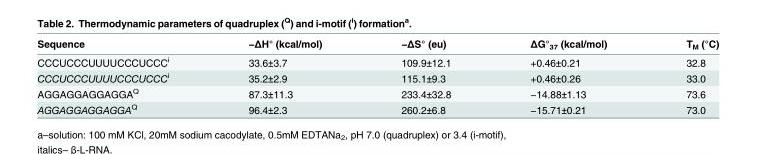table: (36, 37, 718, 115)
table column: (36, 37, 208, 115), (489, 37, 645, 115), (208, 37, 360, 115), (360, 37, 489, 115), (645, 37, 718, 115)
table column header: (36, 37, 718, 52)
table row: (36, 52, 718, 69), (36, 69, 718, 85), (36, 37, 718, 52), (36, 85, 718, 100), (36, 100, 718, 115)
